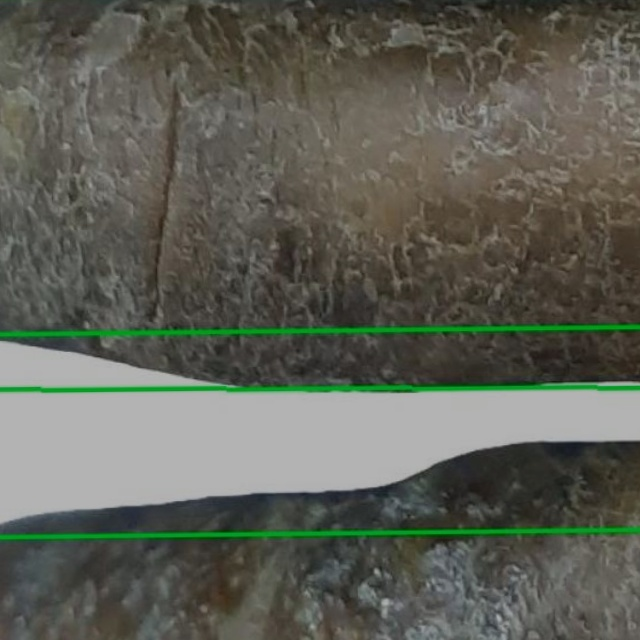Eczema: (0, 0, 639, 391), (0, 326, 639, 537)
